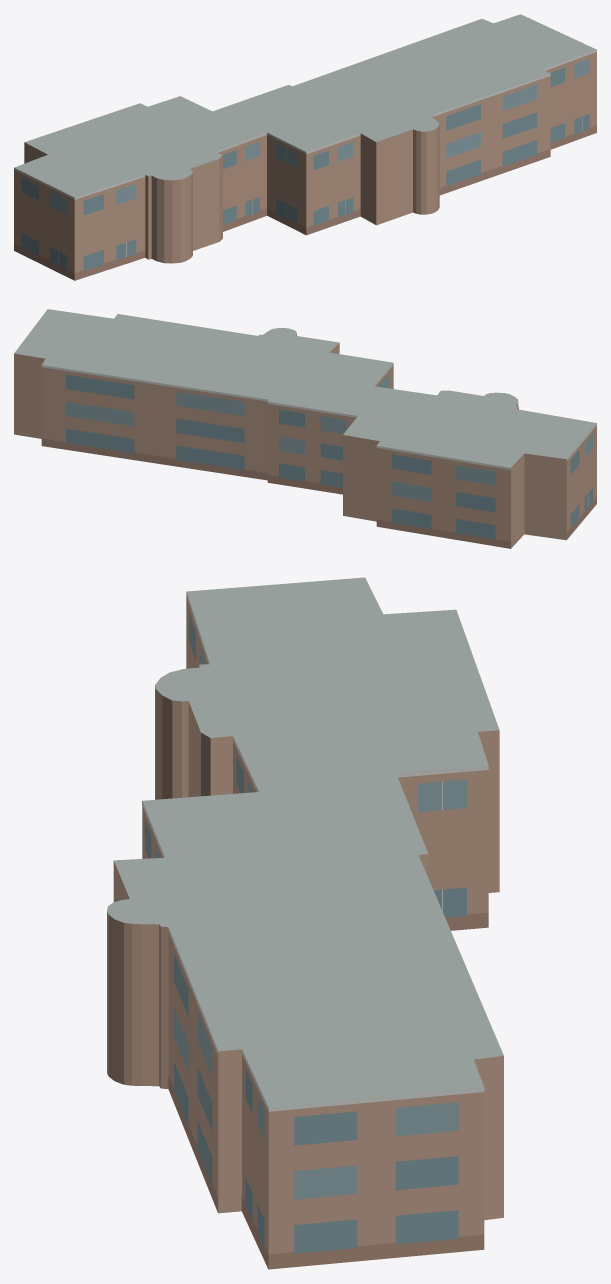
The model's file is survey-upis-33001448.glb.
3 views of the same model, one above another, from view 1: azimuth 30°, elevation 25°; view 2: azimuth 150°, elevation 25°; view 3: azimuth 270°, elevation 25° (orthographic). The views are drawn at different scales.
Visible parts, largest first — view 1: survey-upis-33001448.tmp; view 2: survey-upis-33001448.tmp; view 3: survey-upis-33001448.tmp.
Boxes of the visible parts, left/top/right/bottom form: survey-upis-33001448.tmp: left=14, top=14, right=596, bottom=280; survey-upis-33001448.tmp: left=14, top=309, right=596, bottom=548; survey-upis-33001448.tmp: left=107, top=577, right=503, bottom=1269.
Bounding box in the file's own units: 64.23 × 9.15 × 20.34.
